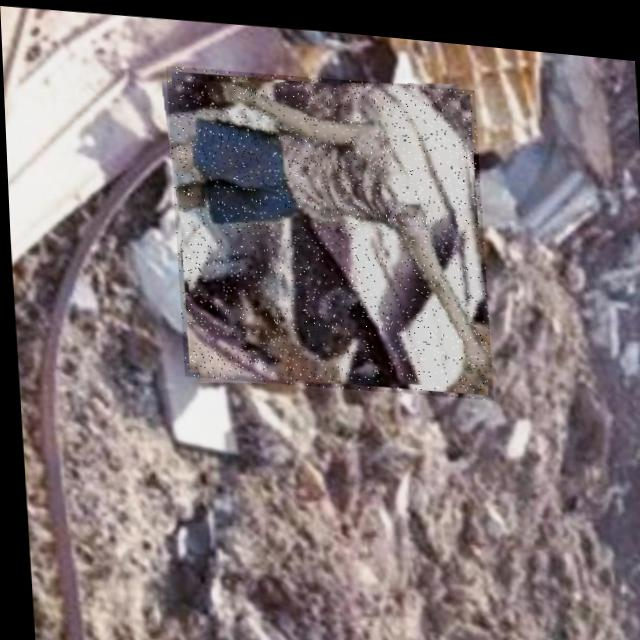Person in Rubble: (164, 57, 489, 396)
